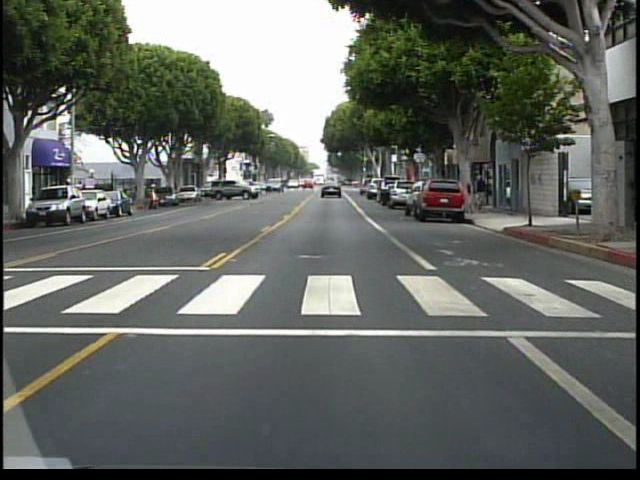person: (471, 175, 491, 215)
